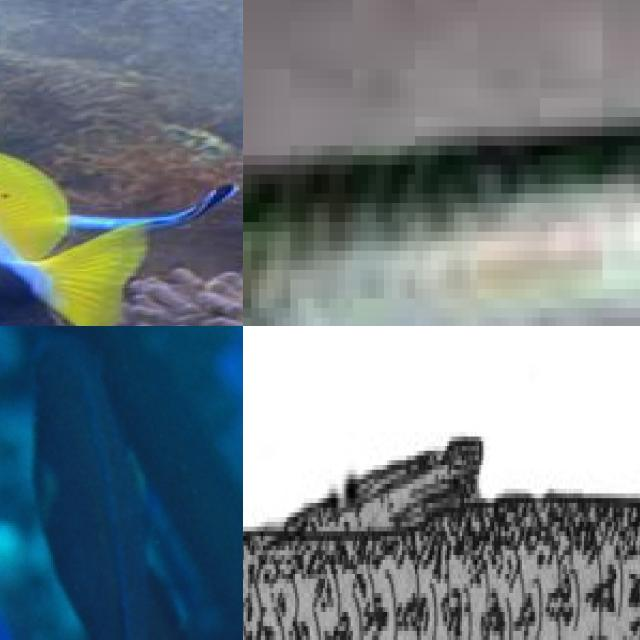fish: (243, 326, 640, 640), (0, 0, 243, 326)
